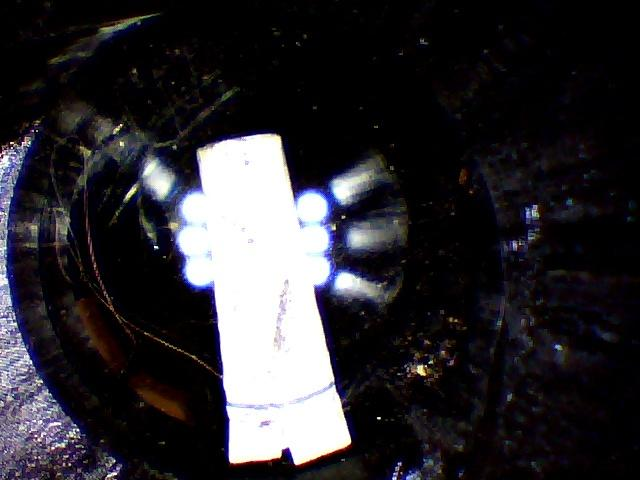megot: (182, 120, 364, 472)
